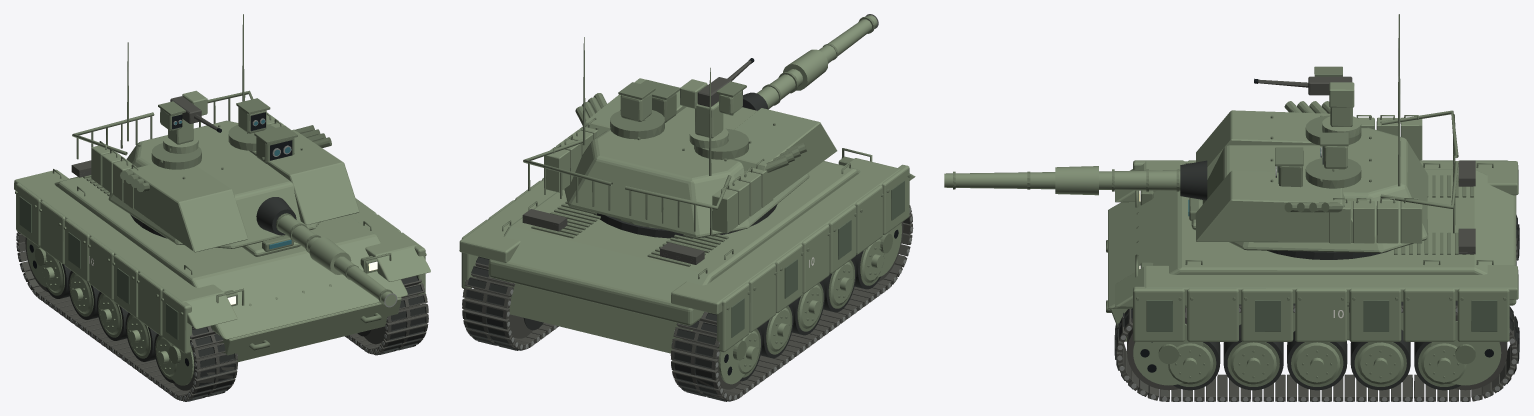
File: japan.glb
3 renders of one model, left to right at view 1: azimuth 30°, elevation 25°; view 2: azimuth 150°, elevation 25°; view 3: azimuth 270°, elevation 25°, orthographic. The views are drawn at different scales.
Visible parts, largest first — view 1: body.002, turret.002; view 2: body.002, turret.002; view 3: body.002, turret.002.
Part boxes in pixels (left/top/right/bottom): body.002: left=14, top=160, right=430, bottom=401; turret.002: left=72, top=14, right=397, bottom=307; body.002: left=459, top=148, right=915, bottom=401; turret.002: left=523, top=14, right=878, bottom=238; body.002: left=1106, top=160, right=1519, bottom=401; turret.002: left=944, top=14, right=1458, bottom=259.
Size of the model in its own units: 3.82 by 3.98 by 7.02.
